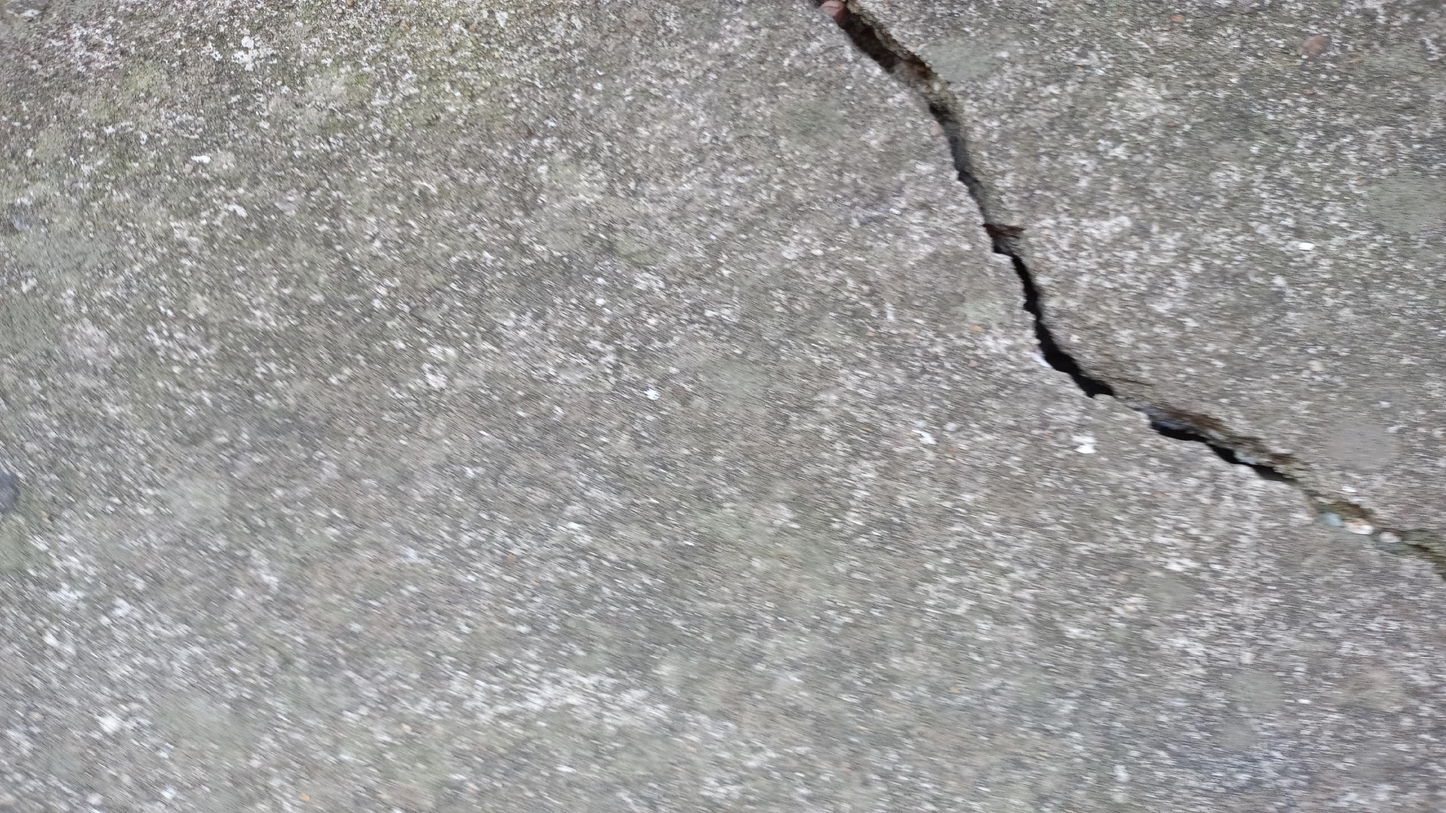crack: (810, 0, 1445, 576)
